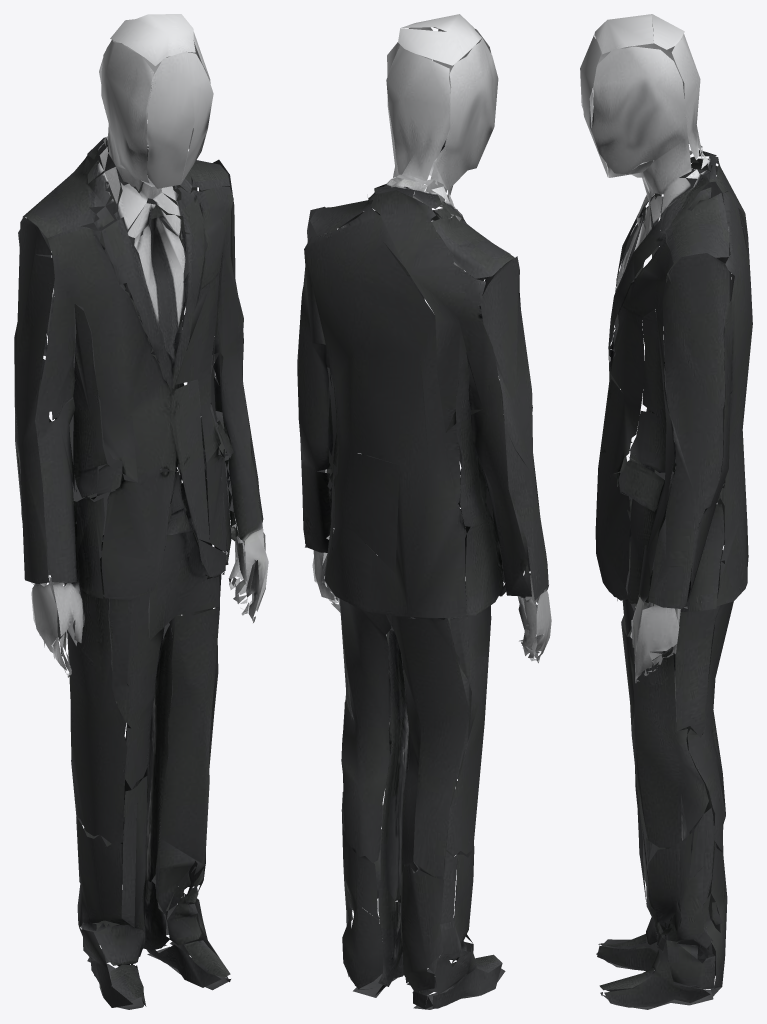
The model's file is slenderman.glb.
3 renders of one model, left to right at view 1: azimuth 30°, elevation 25°; view 2: azimuth 150°, elevation 25°; view 3: azimuth 270°, elevation 25°, orthographic.
Visible parts, largest first — view 1: Mesh_0; view 2: Mesh_0; view 3: Mesh_0.
Boxes of the visible parts, left/top/right/bottom form: Mesh_0: left=14, top=14, right=268, bottom=1009; Mesh_0: left=297, top=14, right=551, bottom=1009; Mesh_0: left=580, top=14, right=752, bottom=1009.
Size of the model in its own units: 0.6651 by 2.64 by 0.4299.
Materials: 1 (1 with a texture image).
